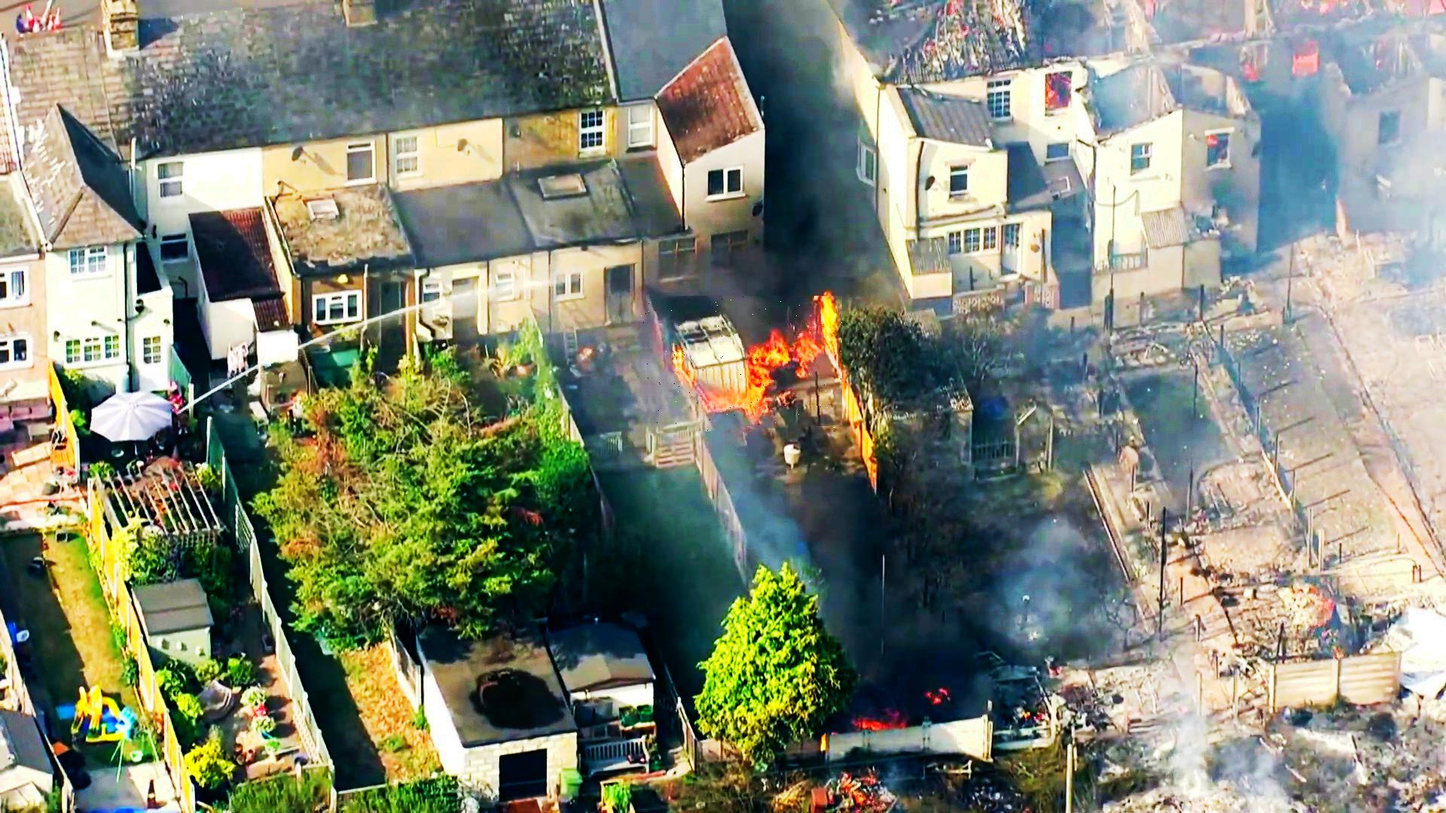fire: (641, 296, 842, 434)
